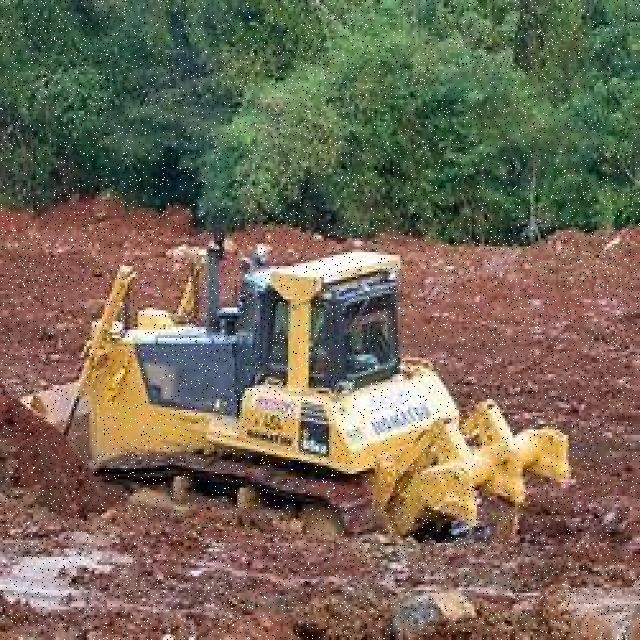Bulldozer: (29, 191, 586, 585)
